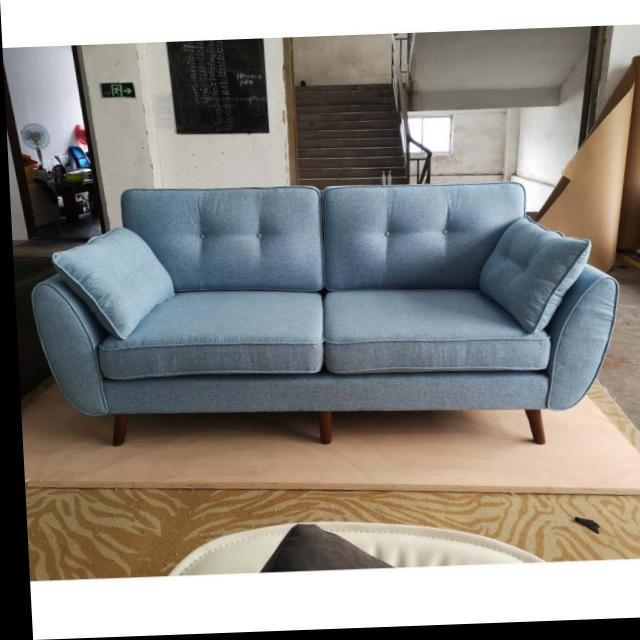Sofa: (22, 177, 625, 460)
